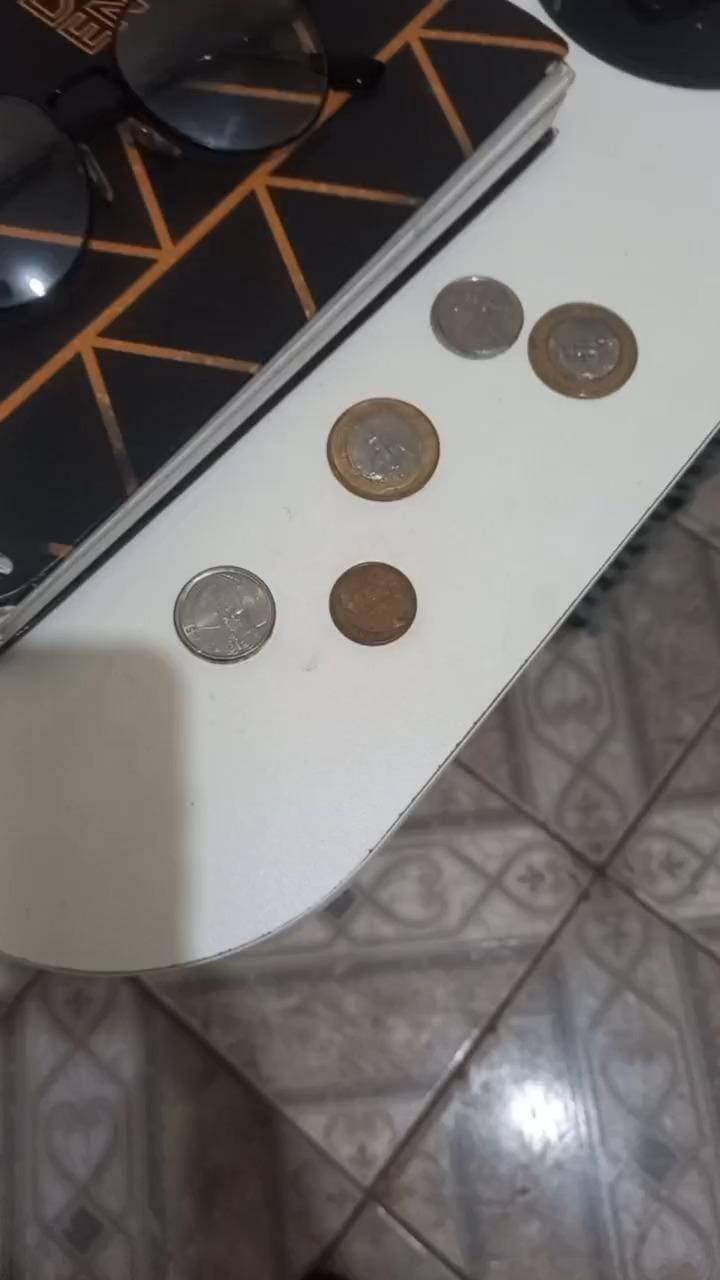1 real: (325, 395, 441, 504), (526, 300, 637, 399)
10 cent: (327, 559, 420, 649)
25 cent: (171, 564, 278, 665), (428, 273, 527, 360)
